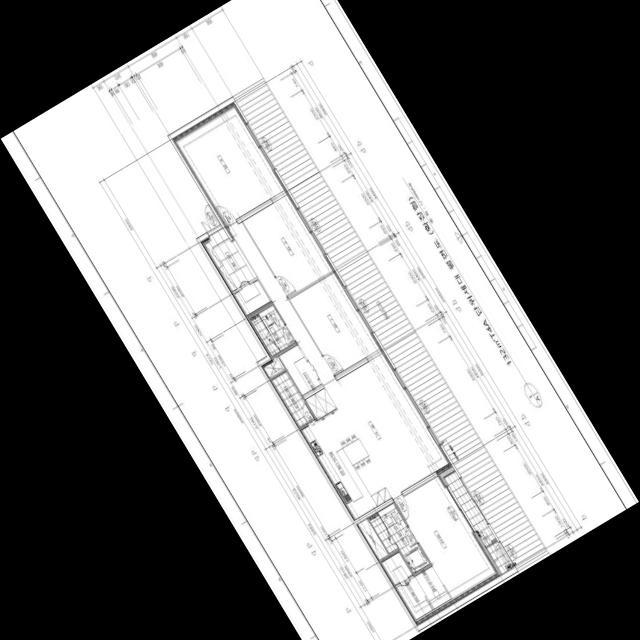background: (1, 0, 639, 640)
space_balconi: (444, 470, 496, 544)
space_bedroom: (173, 102, 286, 225), (394, 474, 499, 602), (289, 271, 381, 375), (243, 193, 334, 296)
space_dressroom: (379, 550, 435, 625), (414, 565, 454, 613)
space_front: (201, 228, 257, 291)
space_kitchen: (300, 388, 391, 519)
space_living_room: (227, 222, 452, 497)
space_multipurpose_space: (270, 371, 314, 427)
space_other: (279, 344, 321, 395), (233, 279, 271, 316), (357, 518, 388, 560), (261, 356, 285, 378)
space_outdoor_room: (486, 541, 513, 574)
space_staircase: (249, 303, 296, 356)
space_toilet: (368, 502, 430, 573)
